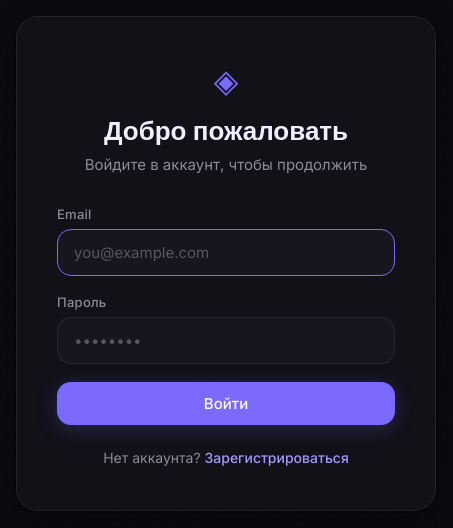
Test: LoginPage › кнопка показывает "Входим..." во время запроса
Type "u@e.com" into the field with placeholder "you@example.com" at (226, 252), box [57,228,395,276]
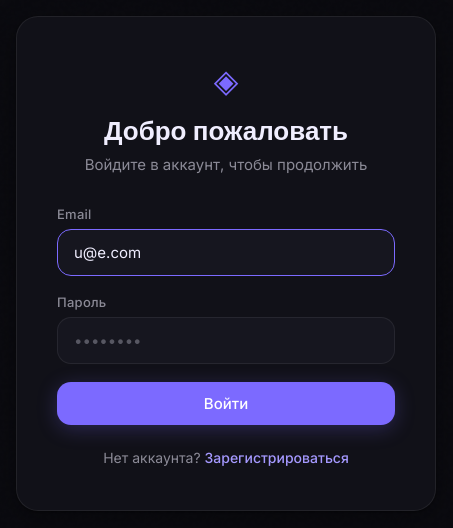
Type "pass123" into the password field with placeholder "••••••••" at (226, 340), box [57,316,395,364]
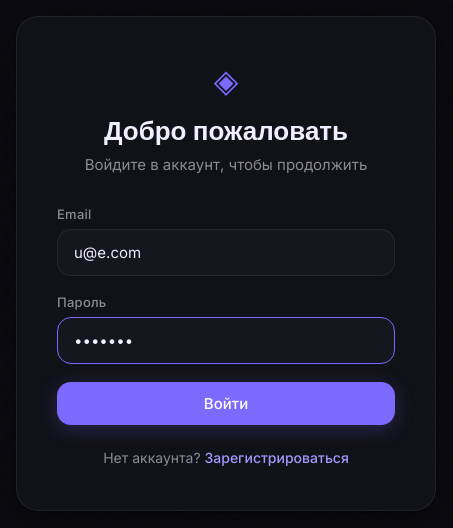
Click the button "Войти" at (226, 403), box [57,382,395,424]
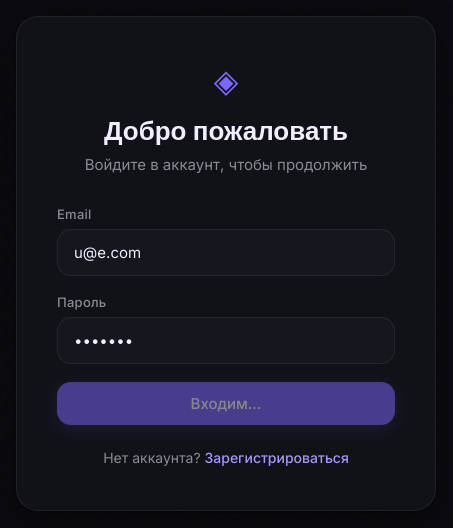
Result: the button "Входим..." is disabled at [57,382,395,424]
